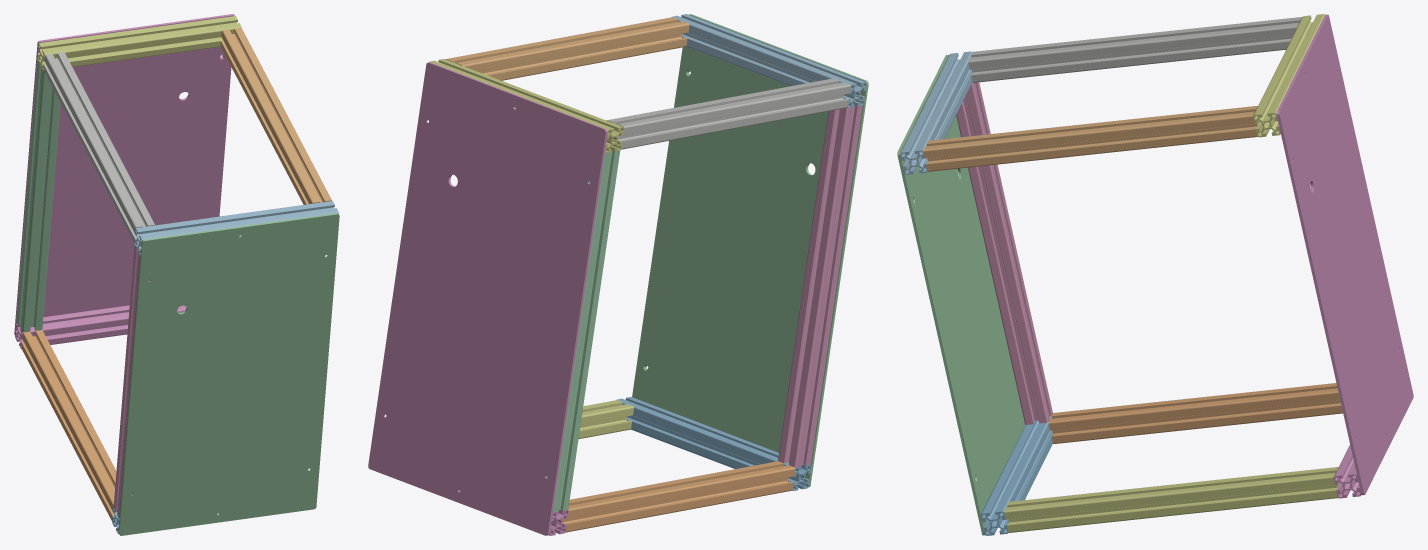
Rendered from case-06_ground_truth.glb.
3 renders of one model, left to right at view 1: azimuth 30°, elevation 25°; view 2: azimuth 150°, elevation 25°; view 3: azimuth 270°, elevation 25°, orthographic. The views are drawn at different scales.
Visible parts, largest first — view 1: c00004, c00014, c00010, c00005, c00003, c00013, c00011, c00007, c00002, c00008; view 2: c00014, c00004, c00008, c00005, c00011, c00003, c00010, c00007, c00012, c00013, c00001; view 3: c00014, c00004, c00001, c00003, c00005, c00008, c00011, c00007, c00012, c00013, c00002.
Part boxes in pixels (<box>): c00004: <box>118,213,339,535</box>; c00014: <box>14,14,234,334</box>; c00010: <box>16,61,60,332</box>; c00005: <box>43,52,154,243</box>; c00003: <box>220,27,331,204</box>; c00013: <box>37,16,241,70</box>; c00011: <box>21,330,116,520</box>; c00007: <box>134,201,338,255</box>; c00002: <box>15,305,186,348</box>; c00008: <box>113,245,150,516</box>; c00014: <box>368,62,607,535</box>; c00004: <box>632,14,868,487</box>; c00008: <box>778,105,862,467</box>; c00005: <box>606,78,850,149</box>; c00011: <box>562,461,795,532</box>; c00003: <box>445,17,689,80</box>; c00010: <box>546,150,620,512</box>; c00007: <box>672,14,866,108</box>; c00012: <box>616,397,811,490</box>; c00013: <box>429,59,624,152</box>; c00001: <box>578,400,633,438</box>; c00014: <box>1276,14,1413,495</box>; c00004: <box>897,54,1025,535</box>; c00001: <box>1004,467,1340,532</box>; c00003: <box>923,106,1259,171</box>; c00005: <box>968,17,1301,82</box>; c00008: <box>956,82,1052,424</box>; c00011: <box>1048,383,1342,443</box>; c00007: <box>900,51,972,174</box>; c00012: <box>980,416,1052,535</box>; c00013: <box>1253,14,1325,137</box>; c00002: <box>1333,445,1361,498</box>.
Size of the model in its own units: 542 by 809 by 841.
